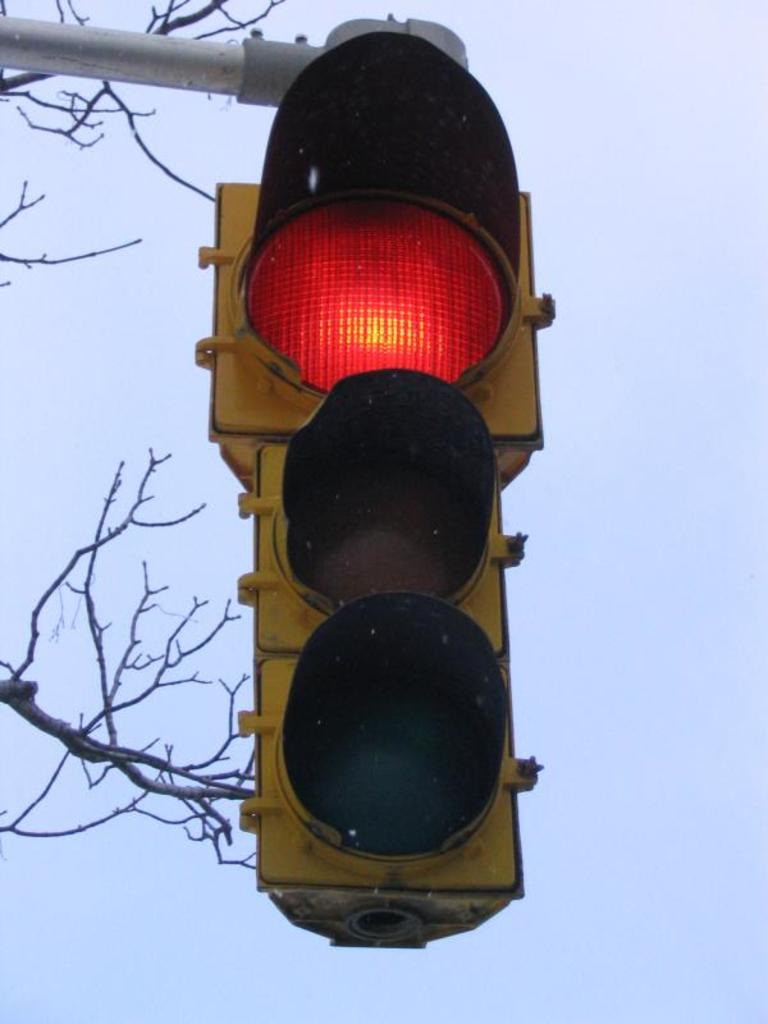red_light: (238, 175, 523, 879)
